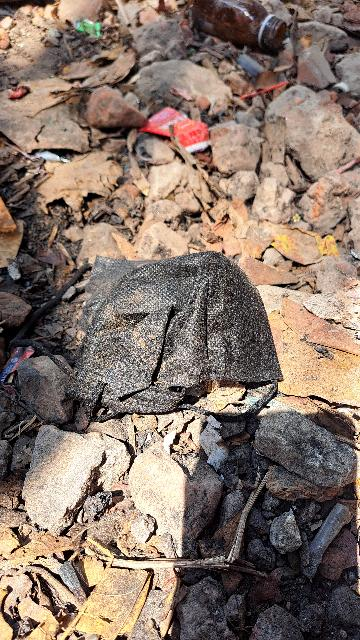mask: (74, 241, 291, 408)
